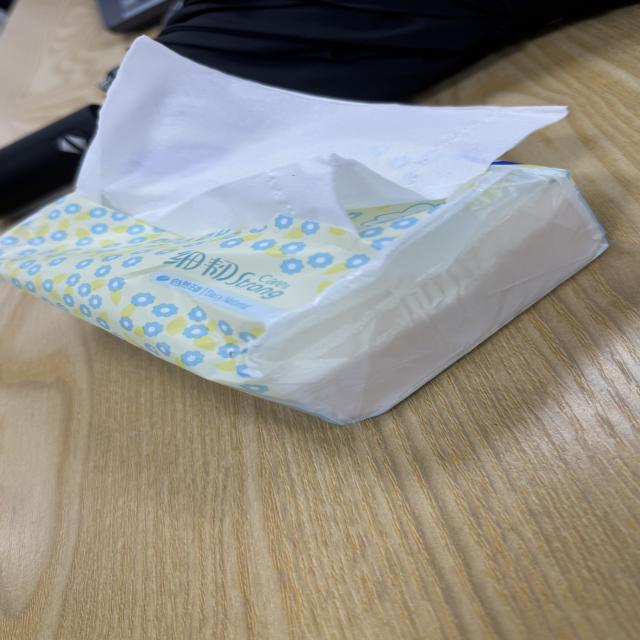tissue: (0, 38, 606, 423), (0, 166, 606, 423), (78, 37, 566, 233)
